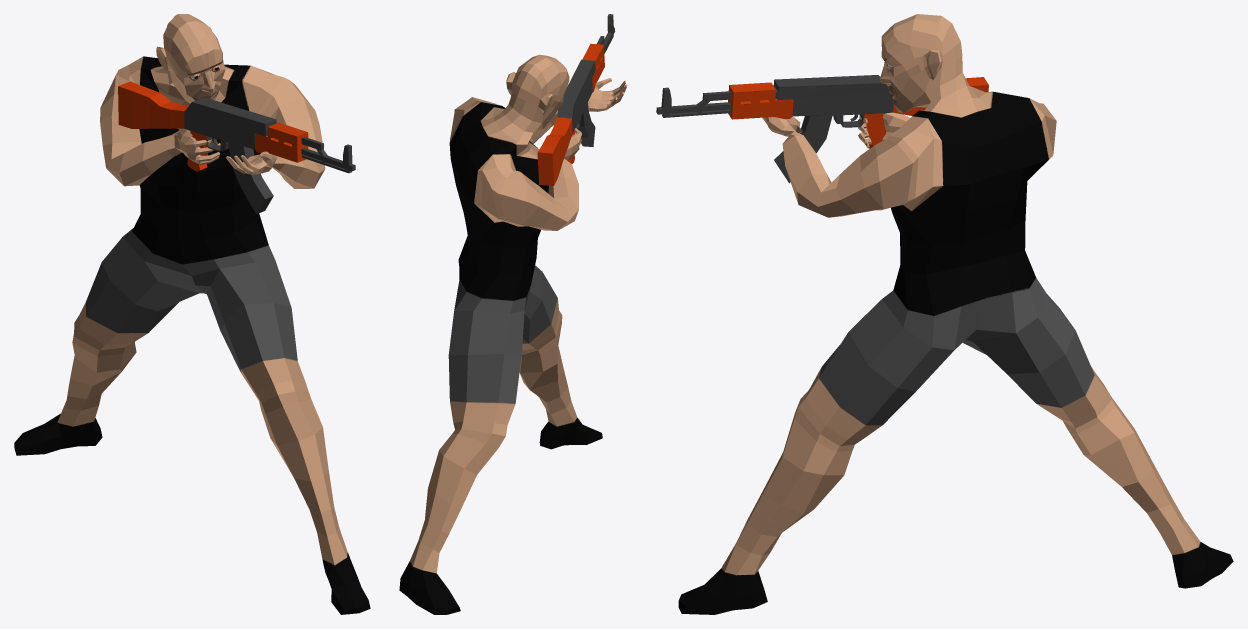
File: PlayerShoot(7).obj
3 views of the same model, side by side, from view 1: azimuth 30°, elevation 25°; view 2: azimuth 150°, elevation 25°; view 3: azimuth 270°, elevation 25° (orthographic). The views are drawn at different scales.
Parts seen in each view (by area): view 1: Plane002, Object001; view 2: Plane002, Object001; view 3: Plane002, Object001.
Part boxes in pixels (left/top/right/bottom): Plane002: left=14, top=14, right=370, bottom=614; Object001: left=118, top=81, right=355, bottom=214; Plane002: left=399, top=54, right=627, bottom=614; Object001: left=537, top=14, right=615, bottom=185; Plane002: left=678, top=14, right=1233, bottom=614; Object001: left=656, top=75, right=988, bottom=183.
Size of the model in its own units: 535 by 1640 by 1528.
